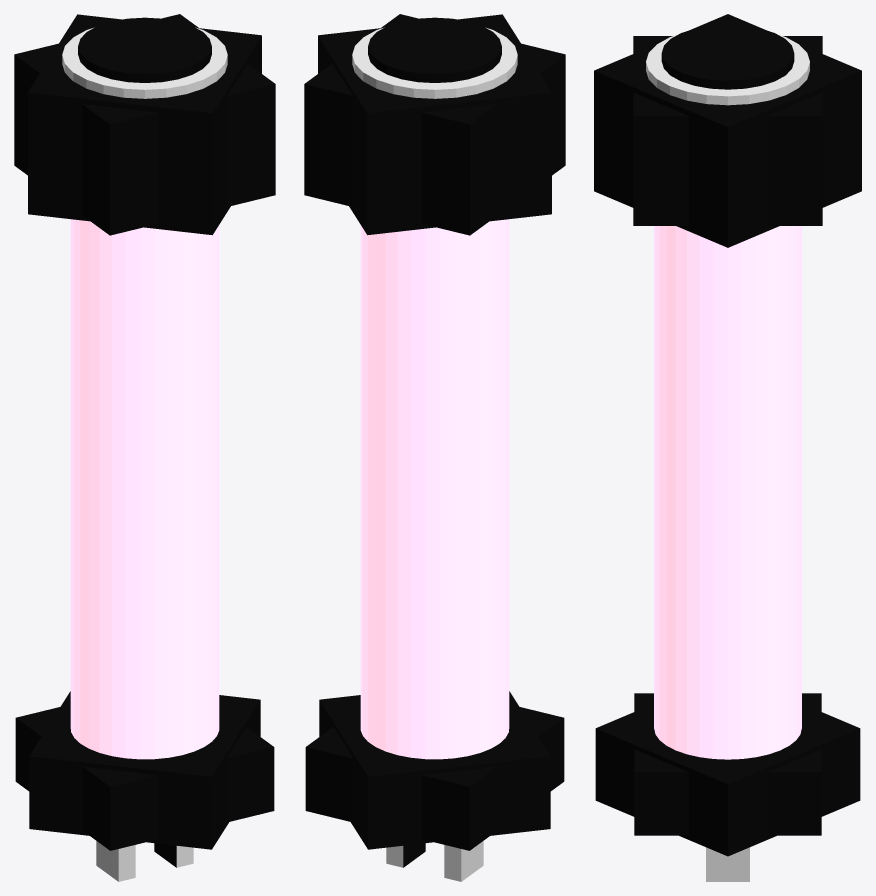
File: stimStick.fbx
3 renders of one model, left to right at view 1: azimuth 30°, elevation 25°; view 2: azimuth 150°, elevation 25°; view 3: azimuth 270°, elevation 25°, orthographic.
Parts seen in each view (by area): view 1: Cube.001; view 2: Cube.001; view 3: Cube.001.
Boxes of the visible parts, box(x1,y1,x2,y2) form: Cube.001: box(14, 14, 275, 881); Cube.001: box(304, 14, 565, 881); Cube.001: box(594, 14, 861, 881).
Bounding box in the file's own units: 76.65 × 76.65 × 256.
